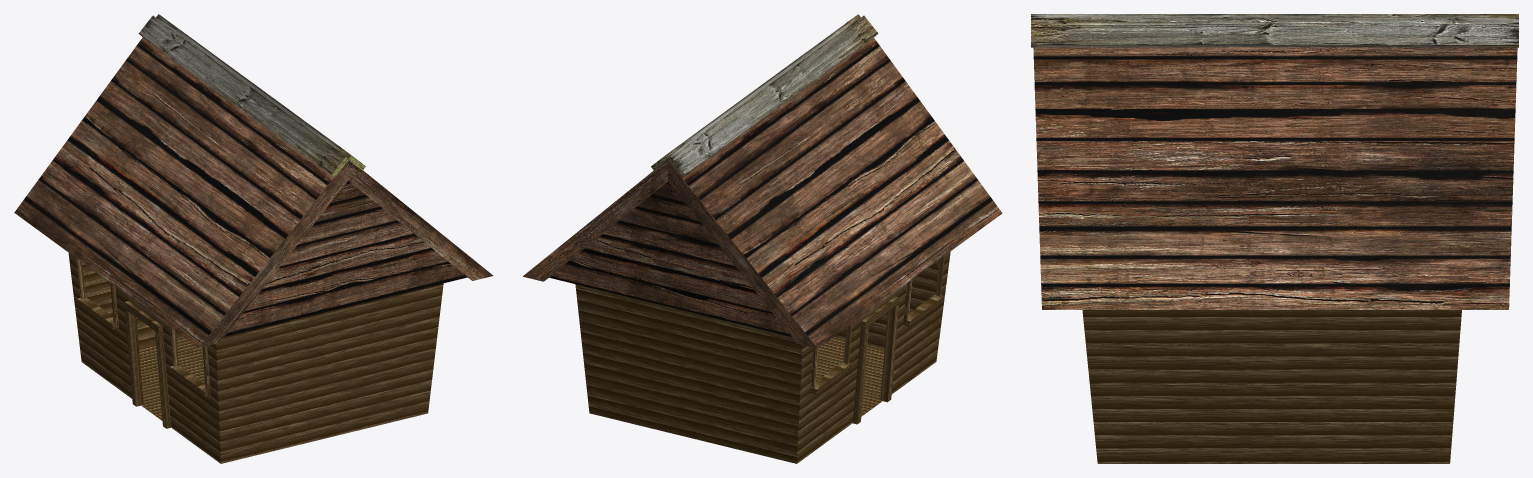
The model's file is hut1.fbx.
3 views of the same model, side by side, from view 1: azimuth 30°, elevation 25°; view 2: azimuth 150°, elevation 25°; view 3: azimuth 270°, elevation 25° (orthographic). The views are drawn at different scales.
Visible parts, largest first — view 1: pasted__pCube2, pasted__pCube1, pasted__pCube161, pasted__pCube7, pasted__pCube162, pasted__pCube6, pasted__pCube5; view 2: pasted__pCube2, pasted__pCube1, pasted__pCube161, pasted__pCube7, pasted__pCube162, pasted__pCube5, pasted__pCube6; view 3: pasted__pCube2, pasted__pCube1, pasted__pCube162, pasted__pCube161.
Boxes of the visible parts, x1,y1,x2,y2 form: pasted__pCube2: (14, 37, 493, 347); pasted__pCube1: (68, 252, 443, 463); pasted__pCube161: (138, 15, 348, 177); pasted__pCube7: (124, 301, 170, 428); pasted__pCube162: (156, 14, 365, 170); pasted__pCube6: (170, 327, 210, 397); pasted__pCube5: (75, 258, 118, 329); pasted__pCube2: (523, 37, 1002, 348); pasted__pCube1: (575, 251, 950, 463); pasted__pCube161: (668, 15, 878, 177); pasted__pCube7: (852, 296, 899, 424); pasted__pCube162: (651, 14, 860, 170); pasted__pCube5: (810, 323, 852, 394); pasted__pCube6: (903, 256, 944, 326); pasted__pCube2: (1033, 47, 1517, 309); pasted__pCube1: (1082, 310, 1461, 463); pasted__pCube162: (1031, 17, 1518, 47); pasted__pCube161: (1031, 14, 1518, 17).
Size of the model in its own units: 7.56 by 7.42 by 8.57.
6 materials, 6 textured.
